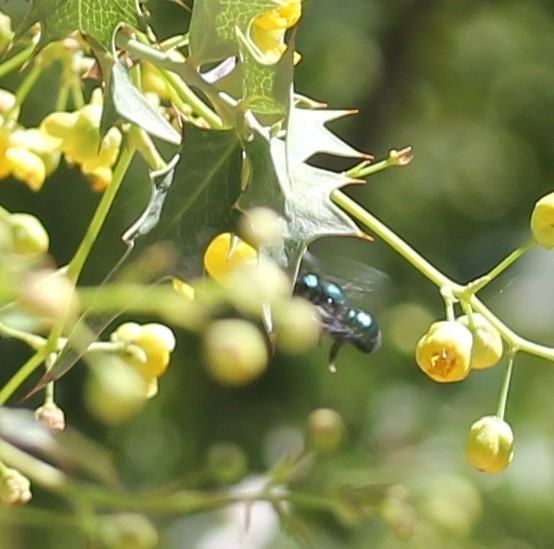not_bumblebee: (289, 254, 392, 378)
